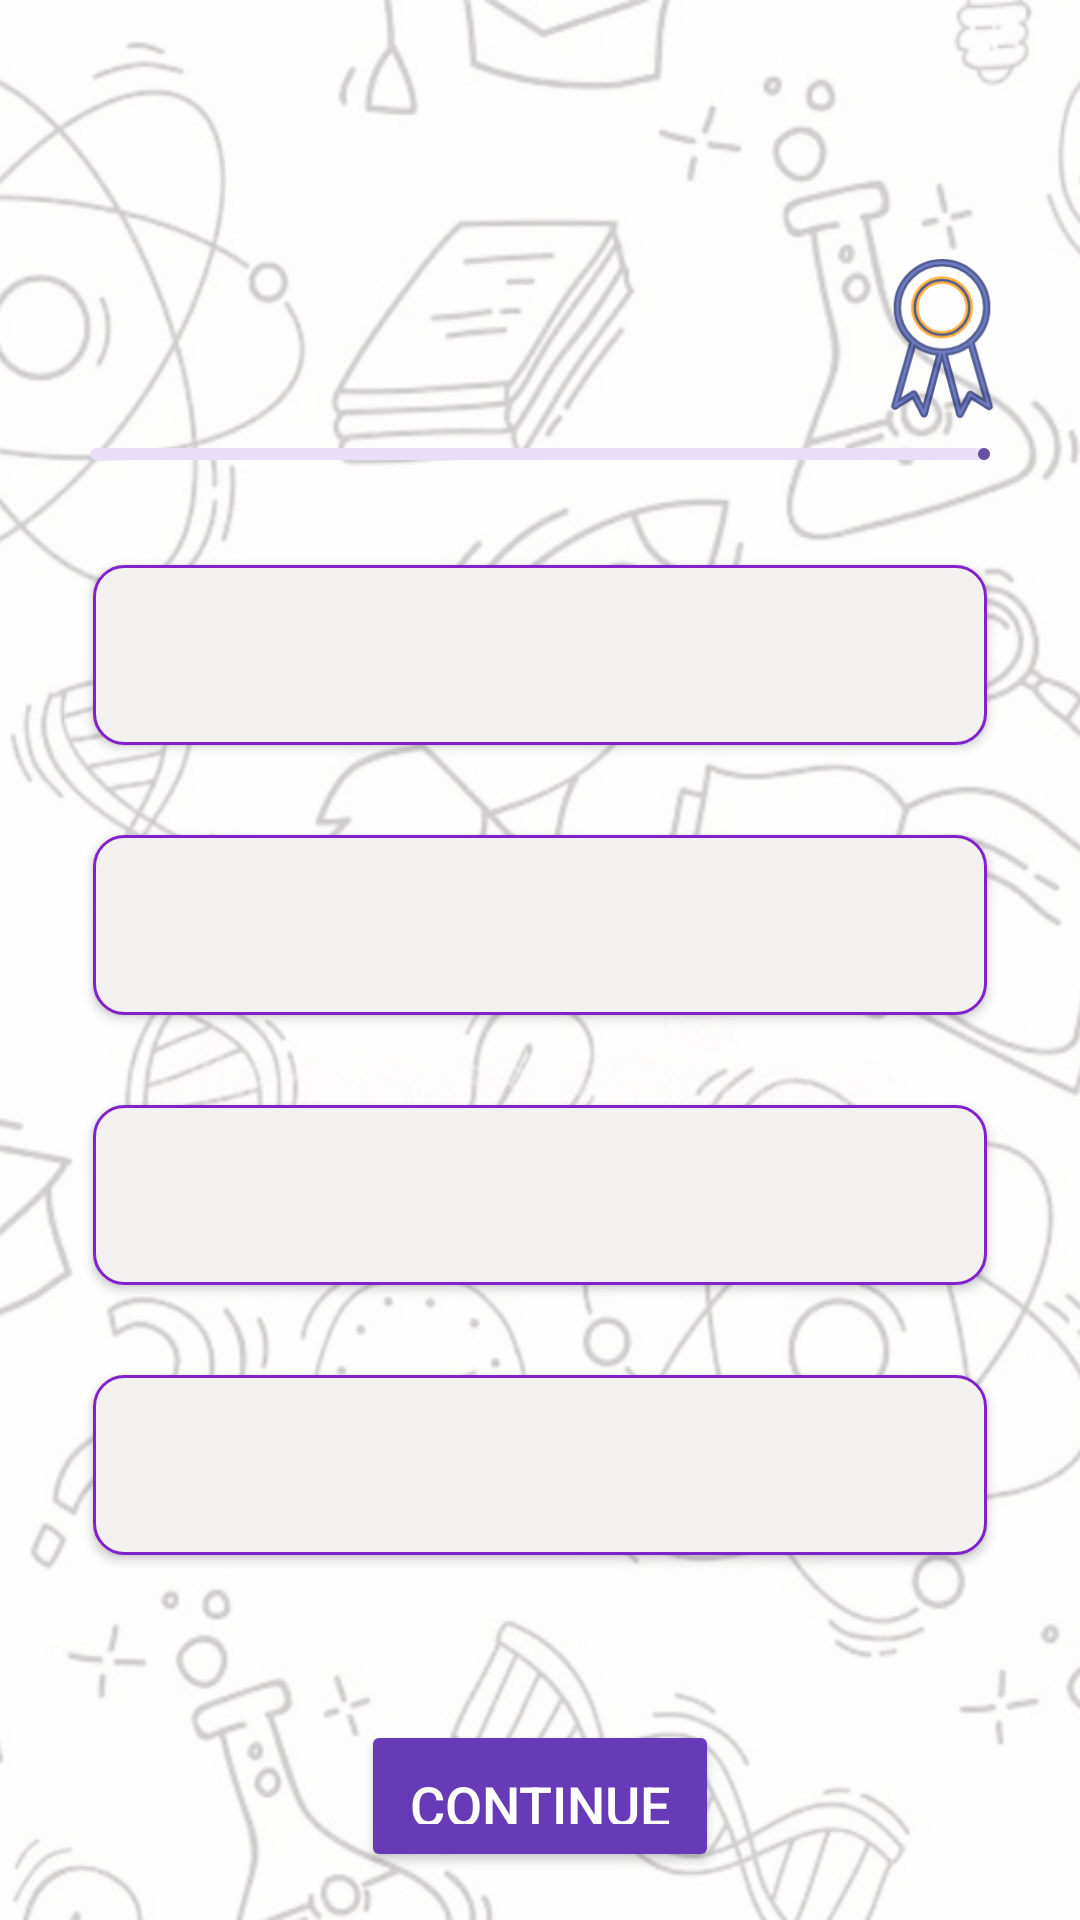

Icons on this 1080x1920 Android screen, each with its box as bbox=[x1, y1, x2, y2]:
achvector: bbox=[852, 259, 1020, 418]
